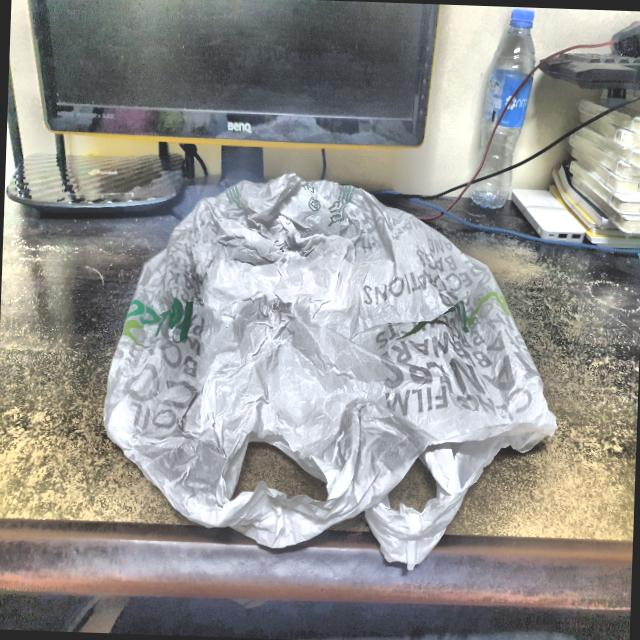plastic bag: (87, 146, 576, 587)
